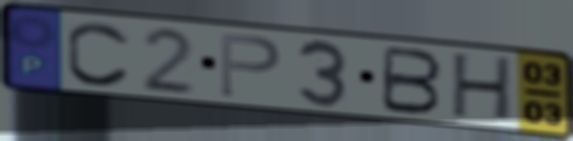2: (138, 25, 199, 97)
3: (295, 37, 351, 110)
B: (378, 43, 446, 117)
C: (64, 18, 134, 89)
H: (448, 51, 516, 125)
P: (216, 30, 284, 100)
